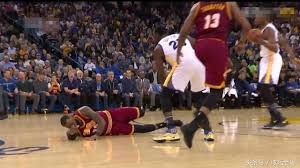10+: (6, 2, 289, 134)
down: (55, 106, 185, 142)
